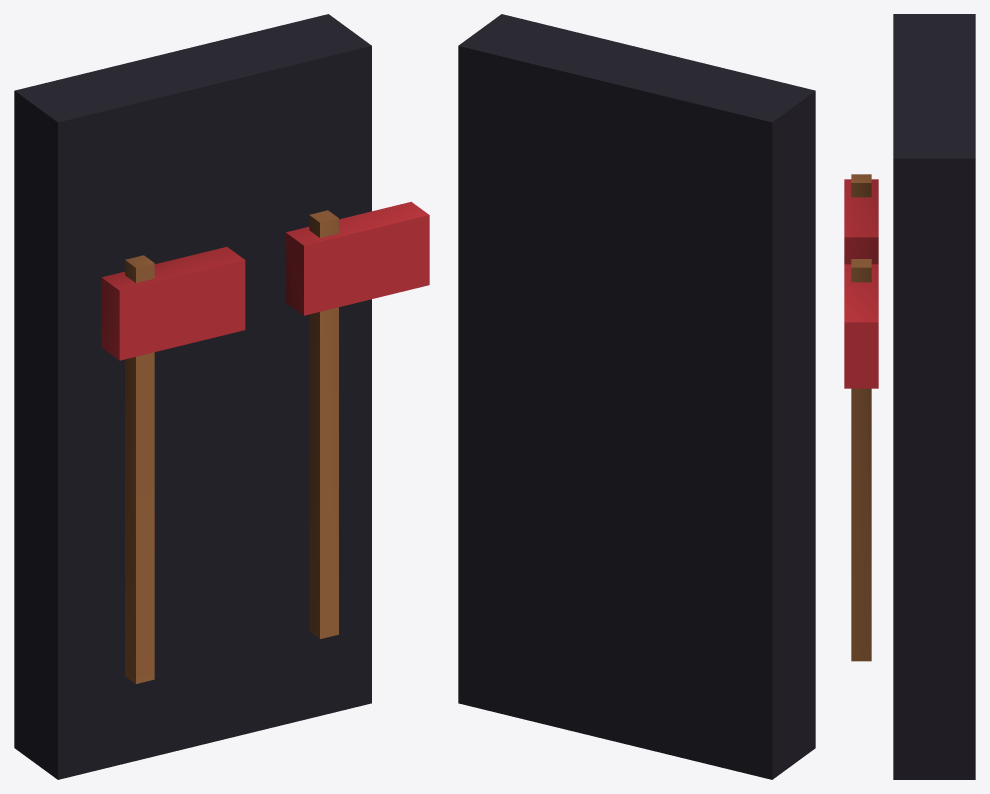
3 renders of one model, left to right at view 1: azimuth 30°, elevation 25°; view 2: azimuth 150°, elevation 25°; view 3: azimuth 270°, elevation 25°, orthographic. The views are drawn at different scales.
Parts seen in each view (by area): view 1: body_pal_uiDark, body_pal_survivorRed, body_pal_woodWarm; view 2: body_pal_uiDark; view 3: body_pal_uiDark, body_pal_woodWarm, body_pal_survivorRed.
Boxes of the visible parts, x1,y1,x2,y2 form: body_pal_uiDark: [14, 14, 371, 779]; body_pal_survivorRed: [101, 201, 429, 360]; body_pal_woodWarm: [125, 210, 338, 683]; body_pal_uiDark: [458, 14, 815, 779]; body_pal_uiDark: [893, 14, 975, 779]; body_pal_woodWarm: [851, 174, 871, 661]; body_pal_survivorRed: [844, 179, 878, 388].
Size of the model in its own units: 0.825 by 1.5 by 0.2875.
